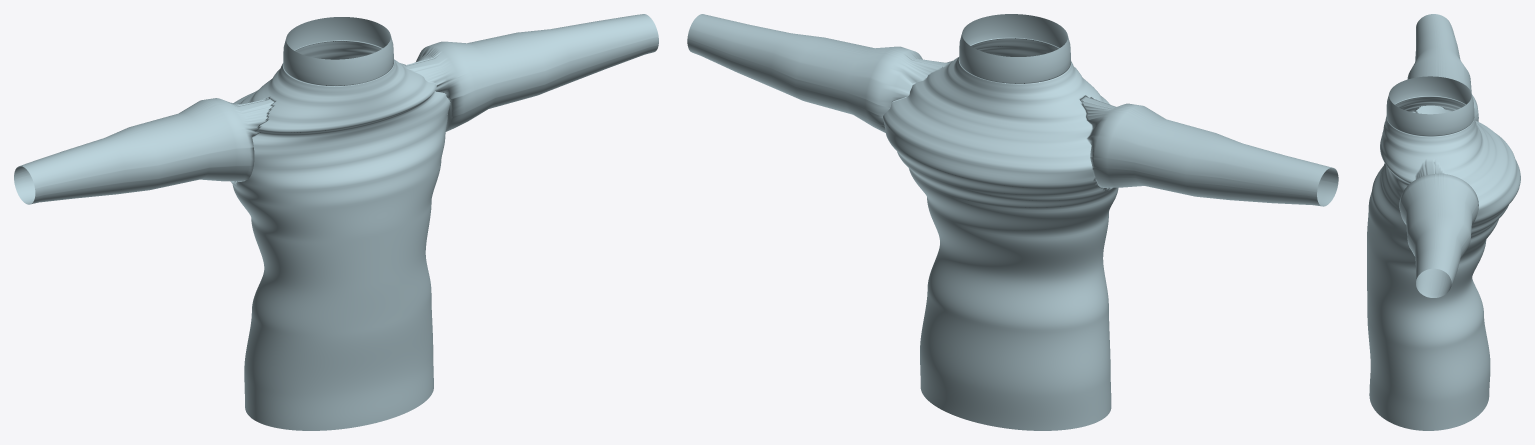
The model's file is garment-v3_1.glb.
3 renders of one model, left to right at view 1: azimuth 30°, elevation 25°; view 2: azimuth 150°, elevation 25°; view 3: azimuth 270°, elevation 25°, orthographic. The views are drawn at different scales.
Parts seen in each view (by area): view 1: ATEL-23 shirt v3.1 corrective; view 2: ATEL-23 shirt v3.1 corrective; view 3: ATEL-23 shirt v3.1 corrective.
Part boxes in pixels (bbox=[...]): ATEL-23 shirt v3.1 corrective: bbox=[14, 14, 658, 430]; ATEL-23 shirt v3.1 corrective: bbox=[687, 14, 1338, 430]; ATEL-23 shirt v3.1 corrective: bbox=[1367, 14, 1520, 430].
Bounding box in the file's own units: 1.48 × 0.815 × 0.379.
